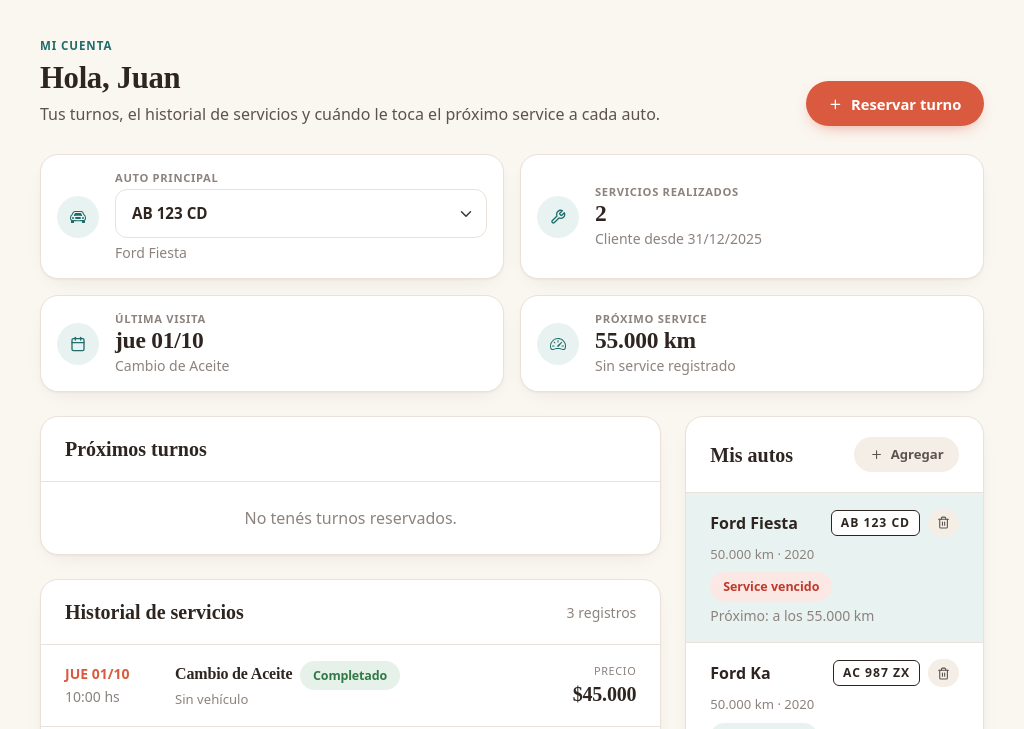
Scenario: Mi cuenta: autos del cliente (Dado / Cuando / Entonces) › Dado un auto con turnos reservados, Cuando intenta eliminarlo, Entonces muestra el motivo que devuelve la API
Click the button named "Eliminar Ford Fiesta".
click(943, 523)  # box x1=928 y1=509 x2=959 y2=537
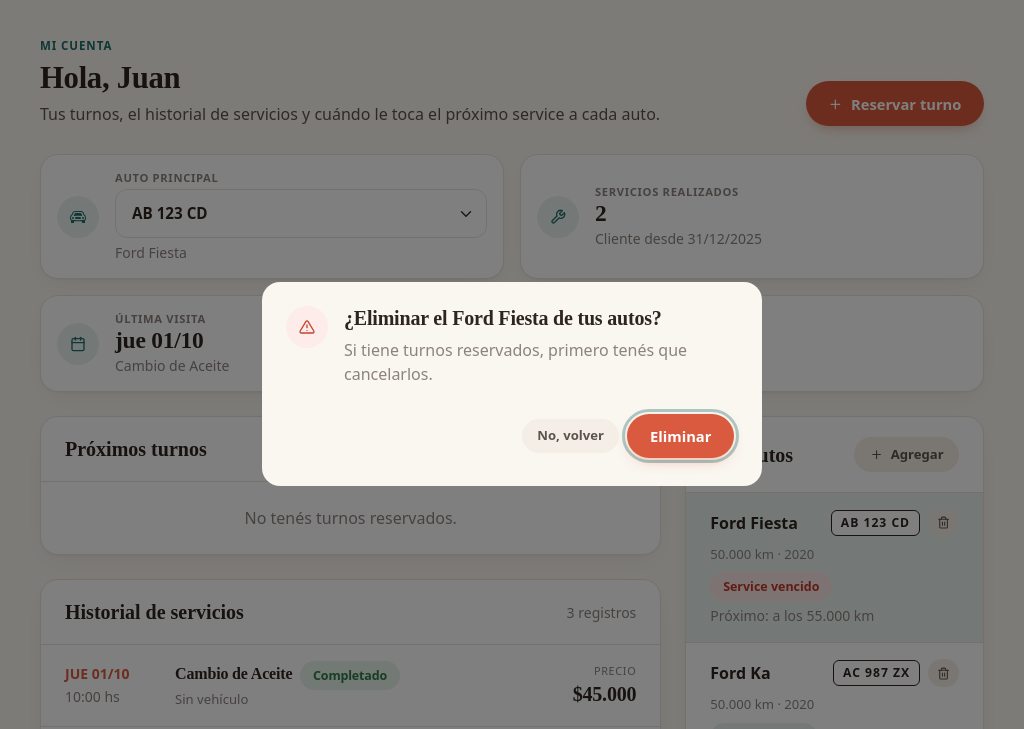
Click the button "Eliminar".
click(681, 436)  # box x1=627 y1=414 x2=734 y2=458
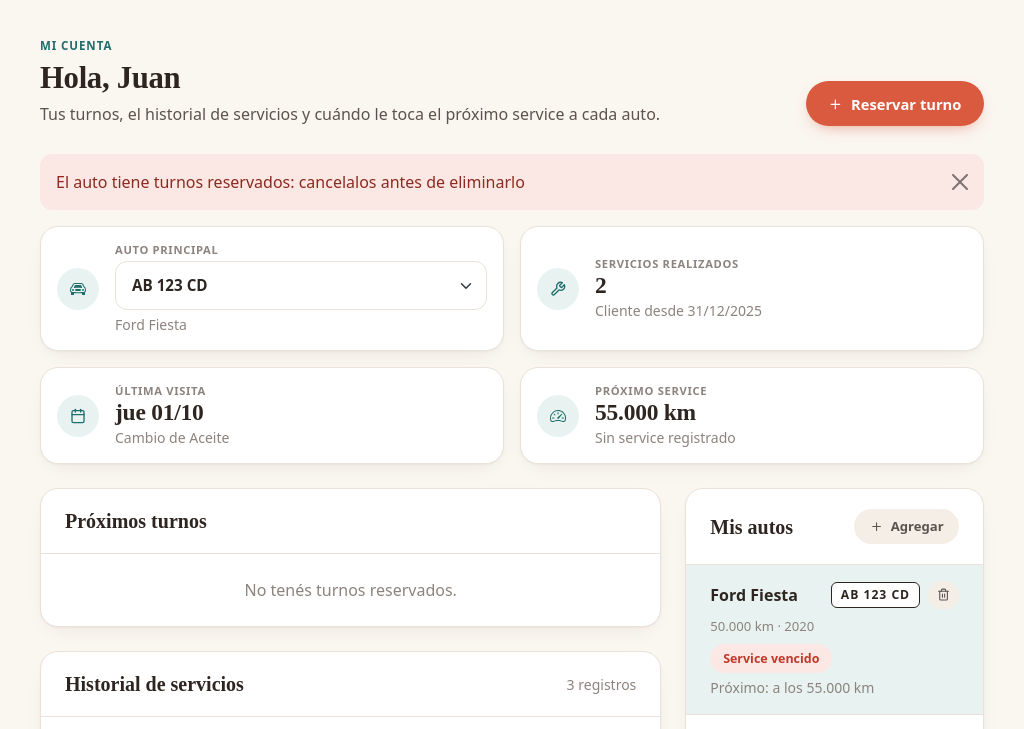
Result: the text "El auto tiene turnos reservados: cancelalos antes de eliminarlo" is shown at x1=40 y1=154 x2=984 y2=210
